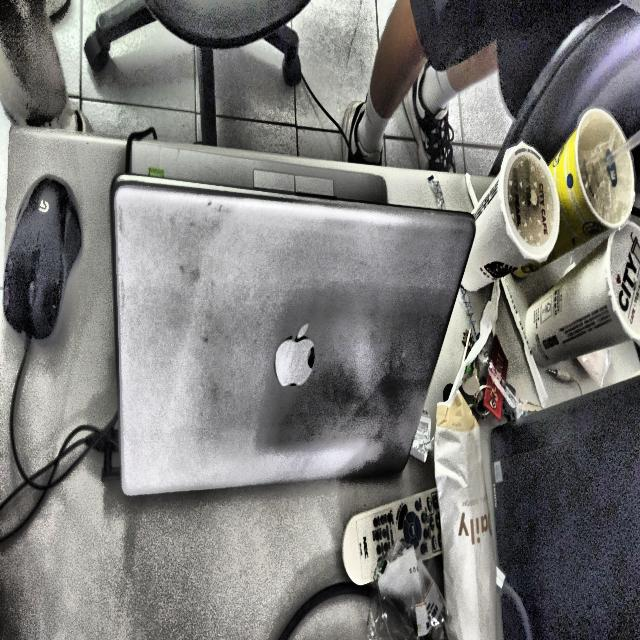Laptop: (111, 140, 475, 495)
MOUSE: (3, 176, 82, 339)
